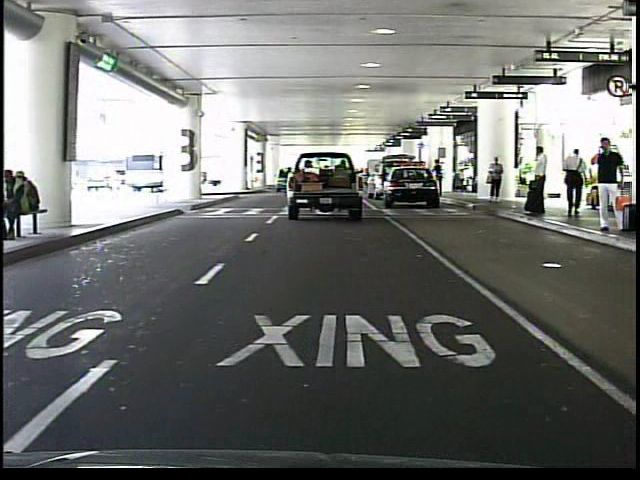person: (590, 137, 630, 239), (561, 144, 589, 219), (524, 144, 551, 221), (485, 156, 507, 207), (432, 159, 445, 191)
